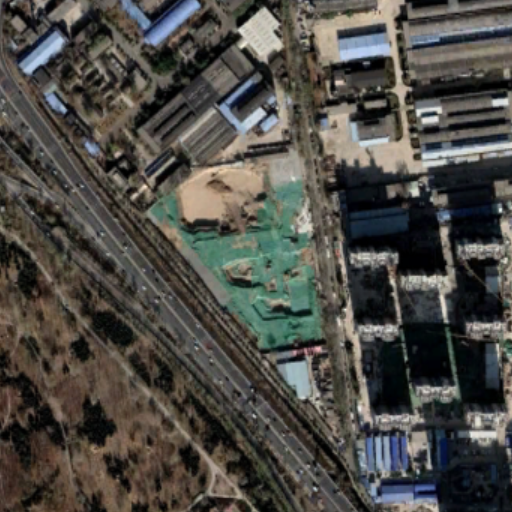cw: (145, 164, 325, 351)
